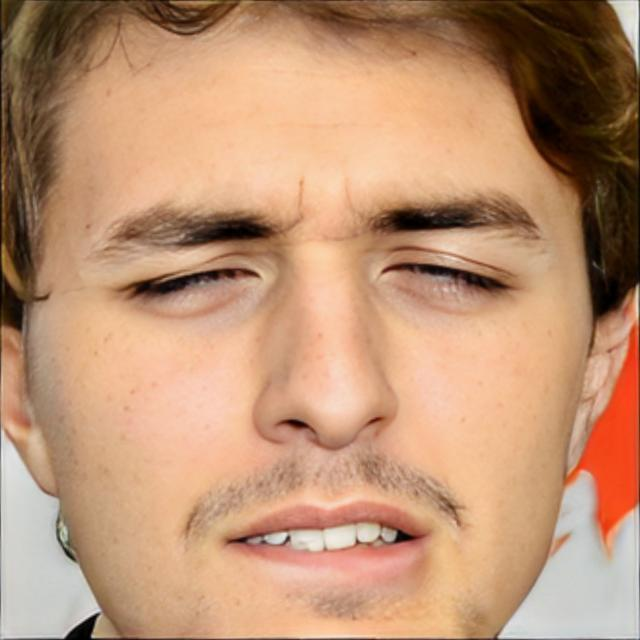disgust: (24, 1, 596, 640)
